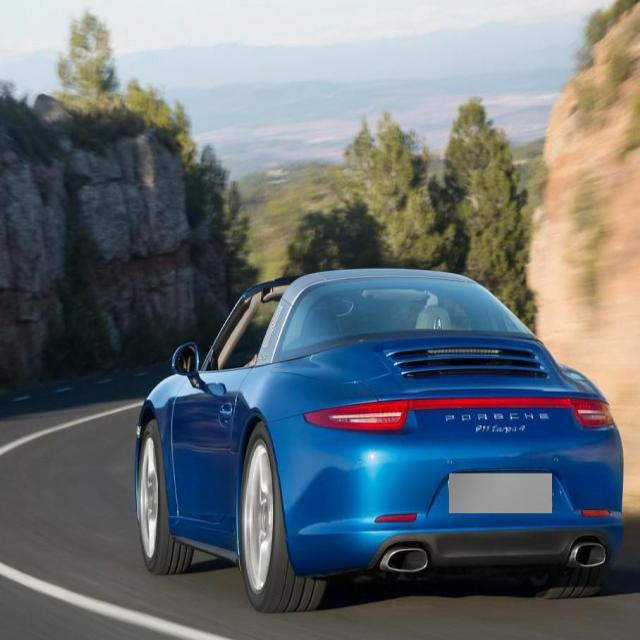back_glass: (270, 274, 548, 366)
back_left_side_light: (302, 396, 412, 434)
back_right_side_light: (567, 395, 615, 428)
front_left_side_door: (171, 362, 253, 543)
front_left_side_mirror: (172, 340, 204, 388)
rear_bumper: (271, 391, 625, 578)
wheel: (239, 420, 321, 612), (136, 418, 197, 576)
